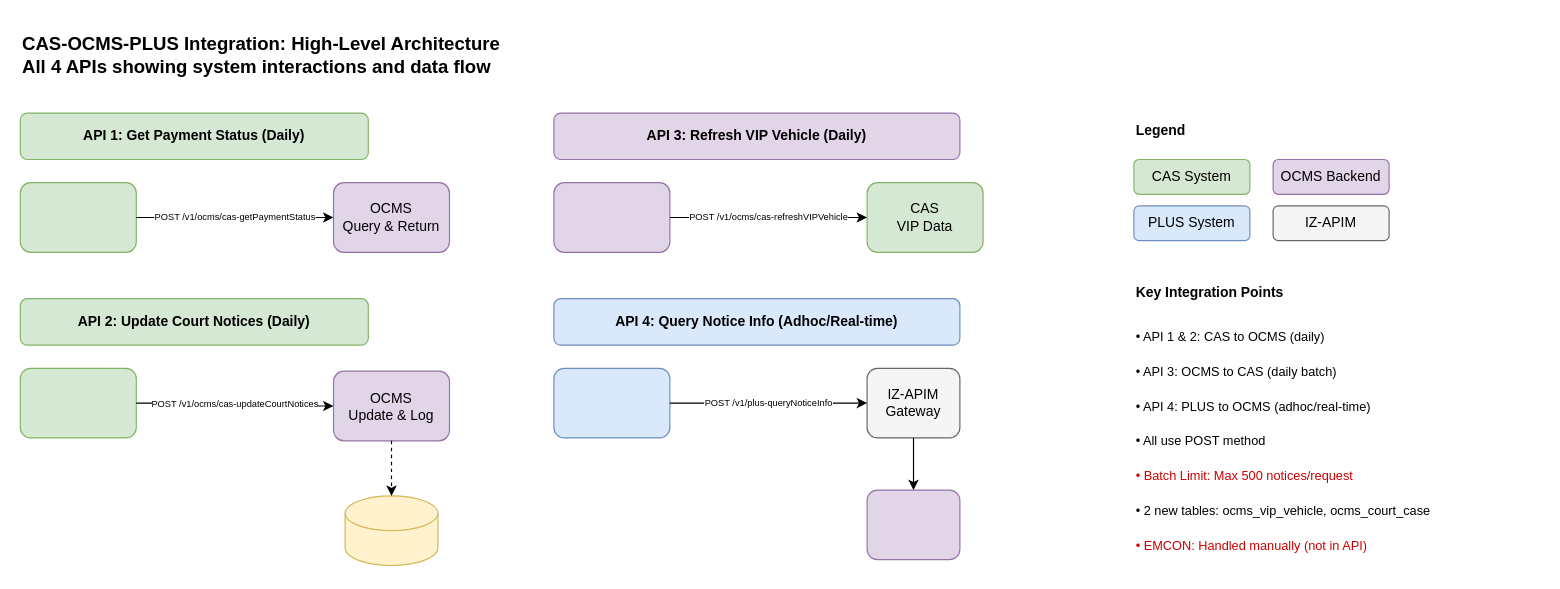
This 1560x589 diagram has some shape labels left out. Here are the shapes that lost their labels. From the top down, the centre of each, then its label:
the point at 77,217: CAS Cron Job
the point at 611,217: OCMS Scheduled Job
the point at 77,402: CAS Court Update
the point at 611,402: PLUS User Query
the point at 391,530: DB UPDATE notice
the point at 913,524: OCMS Query & Calc
